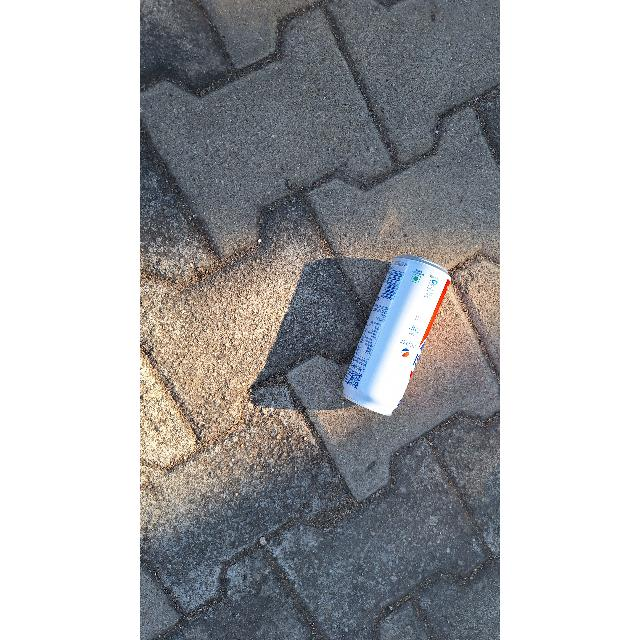Pepsi Retro: (341, 262, 451, 412)
